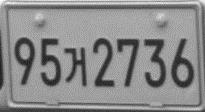2: (91, 37, 115, 87)
3: (143, 38, 166, 88)
5: (39, 37, 61, 86)
6: (170, 37, 194, 88)
7: (116, 38, 139, 87)
9: (13, 36, 35, 85)
거: (62, 46, 87, 86)
